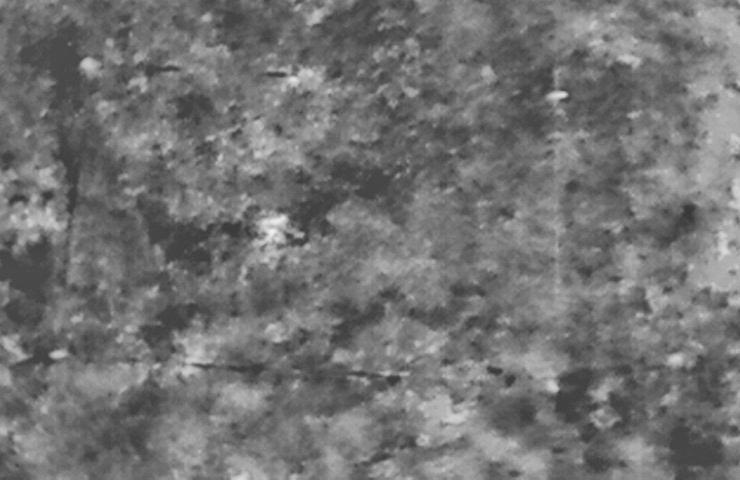landmines: (254, 211, 293, 245)
